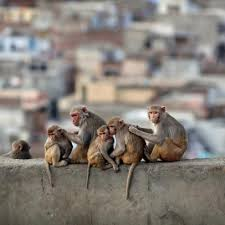monkey: (7, 80, 206, 188)
